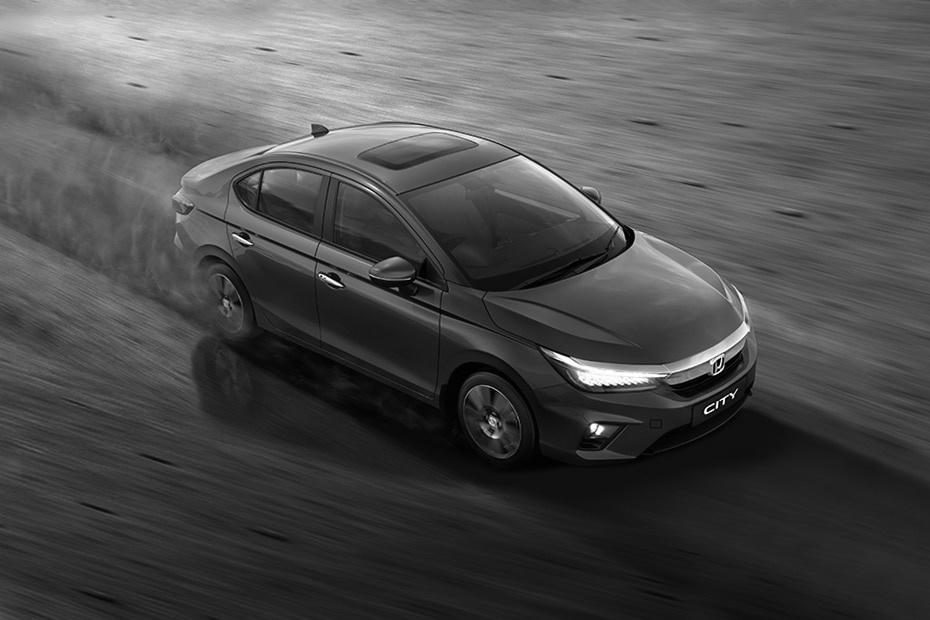Car hood: (479, 230, 748, 368)
Driver-s door - -F-R-: (319, 162, 436, 397)
Fender - -F-R-: (436, 277, 566, 401)
Fender - -R-R-: (182, 190, 247, 301)
Front bumper: (528, 357, 775, 476)
Headlight - -L-: (723, 273, 759, 342)
Headlight - -R-: (532, 340, 672, 396)
Passenger-s door - -R-R-: (225, 156, 319, 349)
Rear bumper: (166, 212, 200, 288)
Rear light - -R-: (165, 185, 197, 219)
Side bumper - -R-: (243, 302, 446, 417)
Side mirror - -L-: (573, 178, 609, 207)
Side mirror - -R-: (363, 250, 425, 303)
